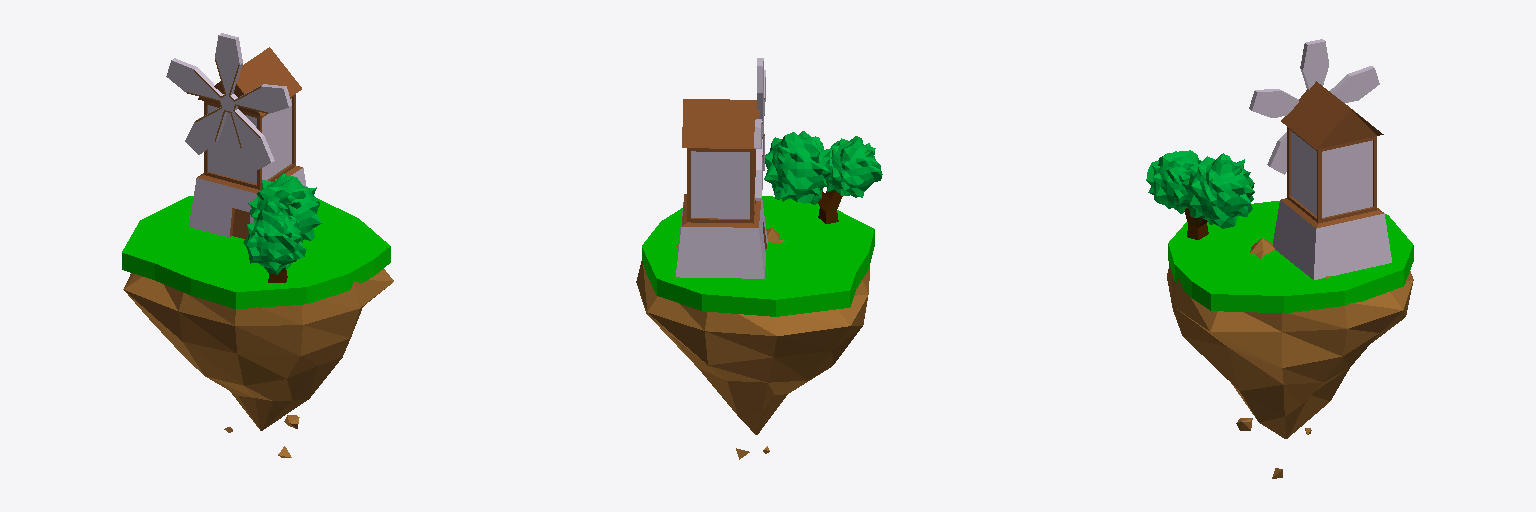
The picture shows the model from 3 angles: view 1: azimuth 30°, elevation 25°; view 2: azimuth 150°, elevation 25°; view 3: azimuth 270°, elevation 25°; orthographic projection.
Visible parts, largest first — view 1: Island, Green_platform, Mill, propeller, Tree; view 2: Island, Green_platform, Mill, Tree, propeller; view 3: Island, Mill, Green_platform, Tree, propeller.
Boxes of the visible parts, box(x1,y1,x2,y2) form: Island: box(123, 269, 393, 457); Green_platform: box(122, 196, 390, 308); Mill: box(189, 47, 306, 238); propeller: box(166, 33, 291, 169); Tree: box(243, 173, 321, 282); Island: box(636, 228, 869, 459); Green_platform: box(642, 196, 874, 316); Mill: box(676, 99, 767, 278); Tree: box(764, 131, 882, 223); propeller: box(754, 58, 765, 200); Island: box(1167, 238, 1413, 478); Mill: box(1273, 81, 1391, 279); Green_platform: box(1168, 201, 1413, 312); Tree: box(1146, 150, 1254, 239); propeller: box(1249, 39, 1379, 174).
Size of the model in its own units: 105 by 195 by 113.